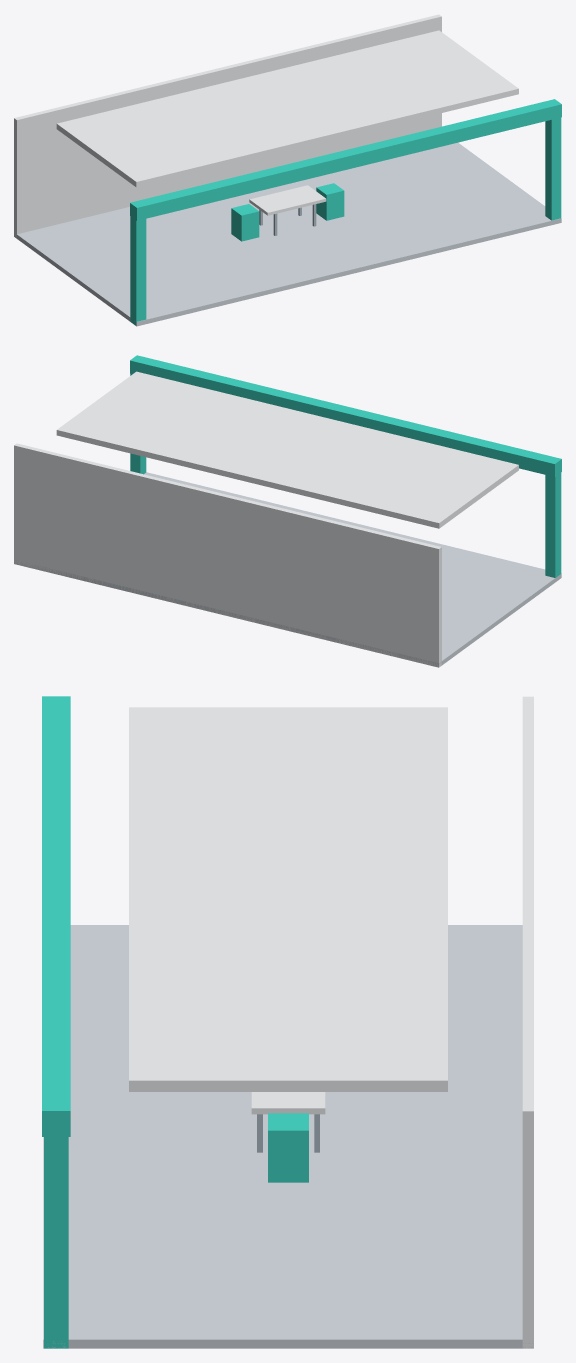
The picture shows the model from 3 angles, top to bottom: view 1: azimuth 30°, elevation 25°; view 2: azimuth 150°, elevation 25°; view 3: azimuth 270°, elevation 25°; orthographic projection. The views are drawn at different scales.
Parts seen in each view (by area): view 1: Exhibition Booth Concept; view 2: Exhibition Booth Concept; view 3: Exhibition Booth Concept.
Part boxes in pixels (left/top/right/bottom): Exhibition Booth Concept: left=14, top=14, right=561, bottom=326; Exhibition Booth Concept: left=14, top=355, right=561, bottom=667; Exhibition Booth Concept: left=42, top=696, right=533, bottom=1348.
Bounding box in the file's own units: 12 × 3.34 × 6.02.
